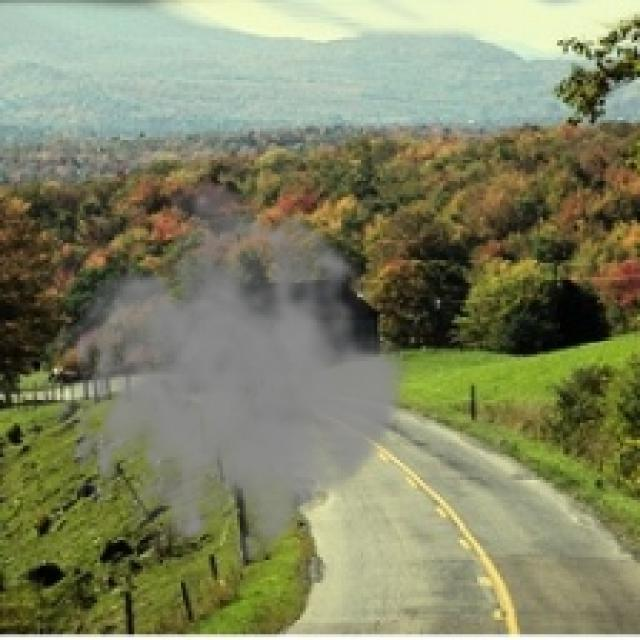Smoke: (48, 175, 414, 580)
